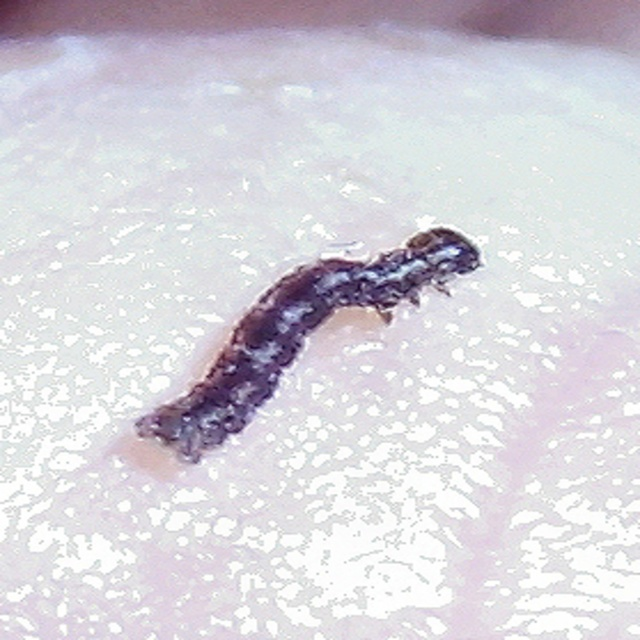Caterpillar: (133, 224, 482, 460)
